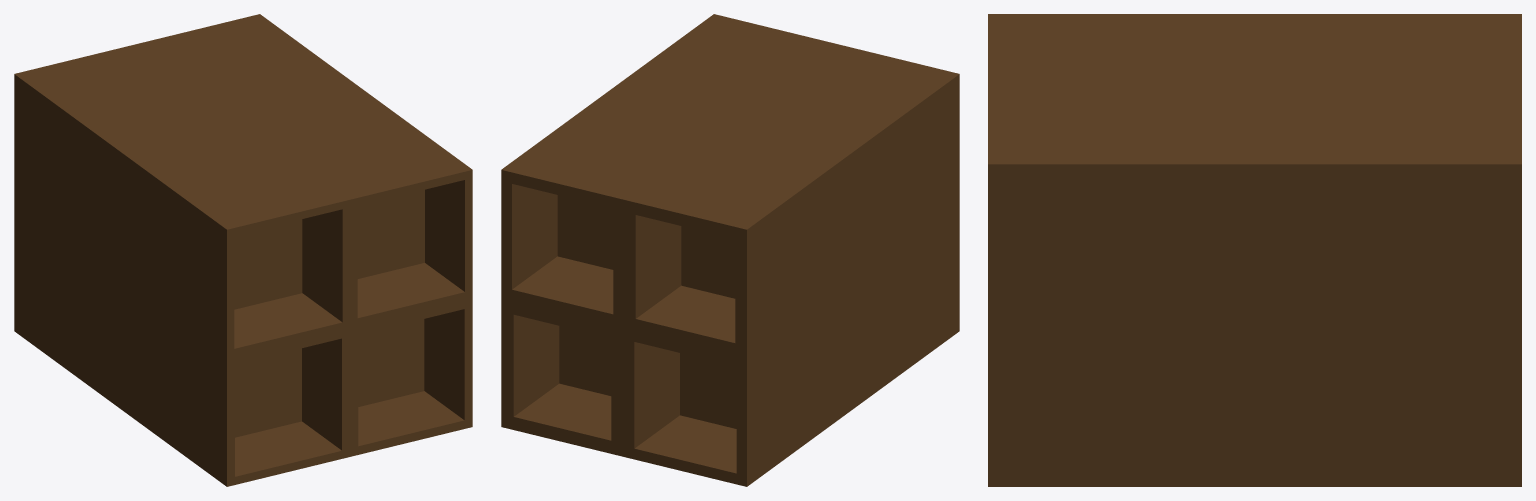
The model's file is Door.obj.
3 renders of one model, left to right at view 1: azimuth 30°, elevation 25°; view 2: azimuth 150°, elevation 25°; view 3: azimuth 270°, elevation 25°, orthographic. The views are drawn at different scales.
Parts seen in each view (by area): view 1: Door; view 2: Door; view 3: Door.
Boxes of the visible parts, box(x1,y1,x2,y2) form: Door: box(14, 14, 472, 486); Door: box(501, 14, 959, 486); Door: box(988, 14, 1521, 486).
Bounding box in the file's own units: 1 × 1 × 1.5.
